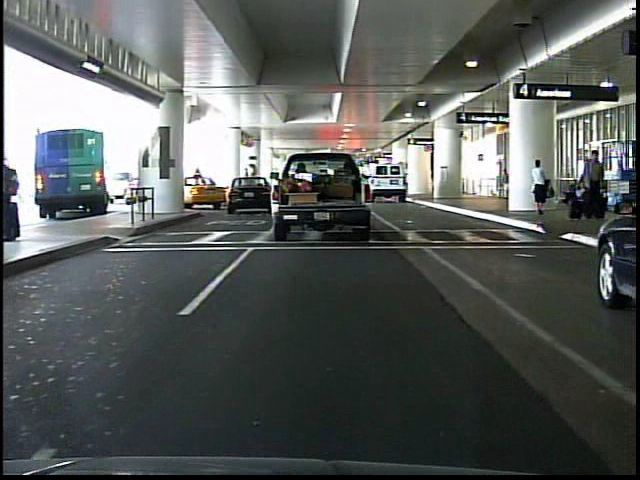person: (576, 145, 608, 223), (528, 155, 551, 216), (579, 154, 602, 211)
